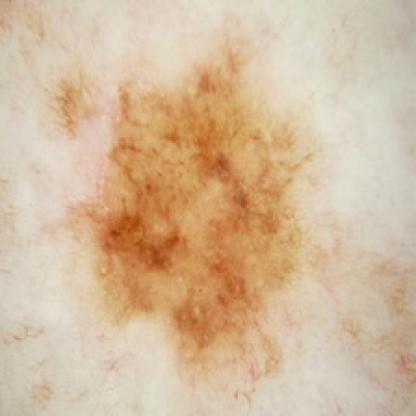malignant: (100, 65, 312, 334)
